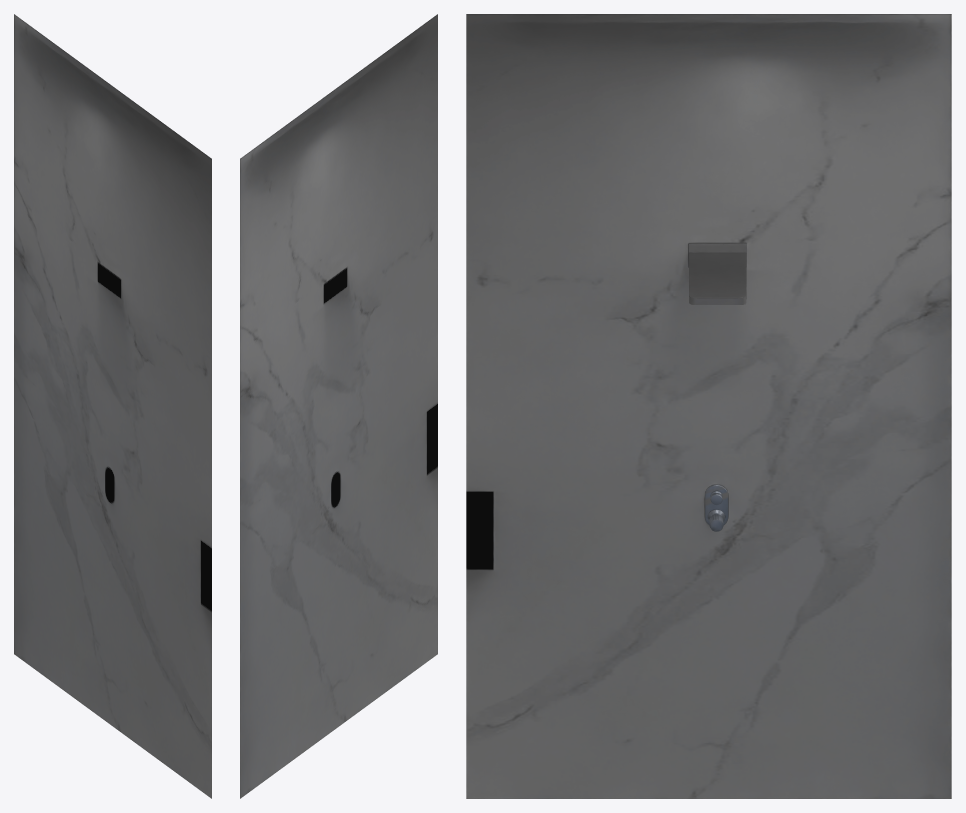
Rendered from Cascade_Shower_FINAL_1.glb.
3 renders of one model, left to right at view 1: azimuth 30°, elevation 25°; view 2: azimuth 150°, elevation 25°; view 3: azimuth 270°, elevation 25°, orthographic. The views are drawn at different scales.
Parts seen in each view (by area): view 1: Cascade_Shower_FINAL_1; view 2: Cascade_Shower_FINAL_1; view 3: Cascade_Shower_FINAL_1.
Boxes of the visible parts, bbox=[...] form: Cascade_Shower_FINAL_1: bbox=[14, 14, 211, 798]; Cascade_Shower_FINAL_1: bbox=[240, 14, 437, 798]; Cascade_Shower_FINAL_1: bbox=[466, 14, 951, 798].
Bounding box in the file's own units: 1.24 × 9.84 × 5.51.
1 material, 1 textured.
